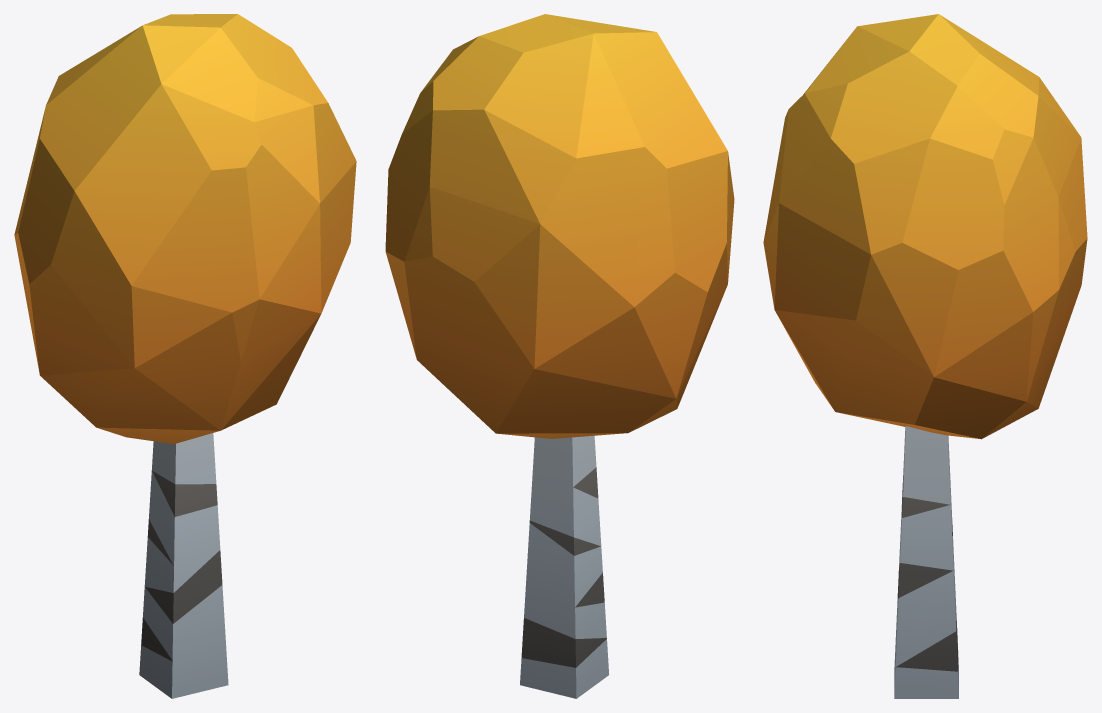
Rendered from Tree_5.fbx.
3 renders of one model, left to right at view 1: azimuth 30°, elevation 25°; view 2: azimuth 150°, elevation 25°; view 3: azimuth 270°, elevation 25°, orthographic.
Parts seen in each view (by area): view 1: Tree_5; view 2: Tree_5; view 3: Tree_5.
Boxes of the visible parts, box(x1,y1,x2,y2) form: Tree_5: box(14, 14, 356, 698); Tree_5: box(385, 14, 734, 698); Tree_5: box(763, 14, 1087, 698).
Bounding box in the file's own units: 340 × 718 × 322.
